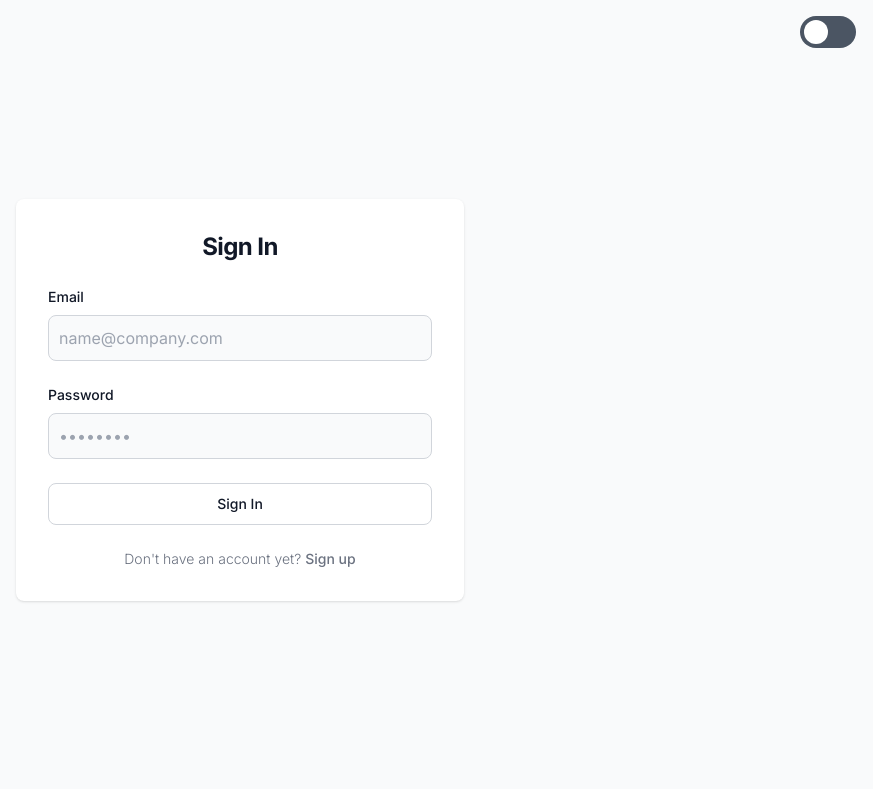
it: Sign In › should display an error when password is empty
This screenshot has width=873, height=789.
Type "test@example.com" into the field named "email" at (240, 338), box [48,315,432,361]
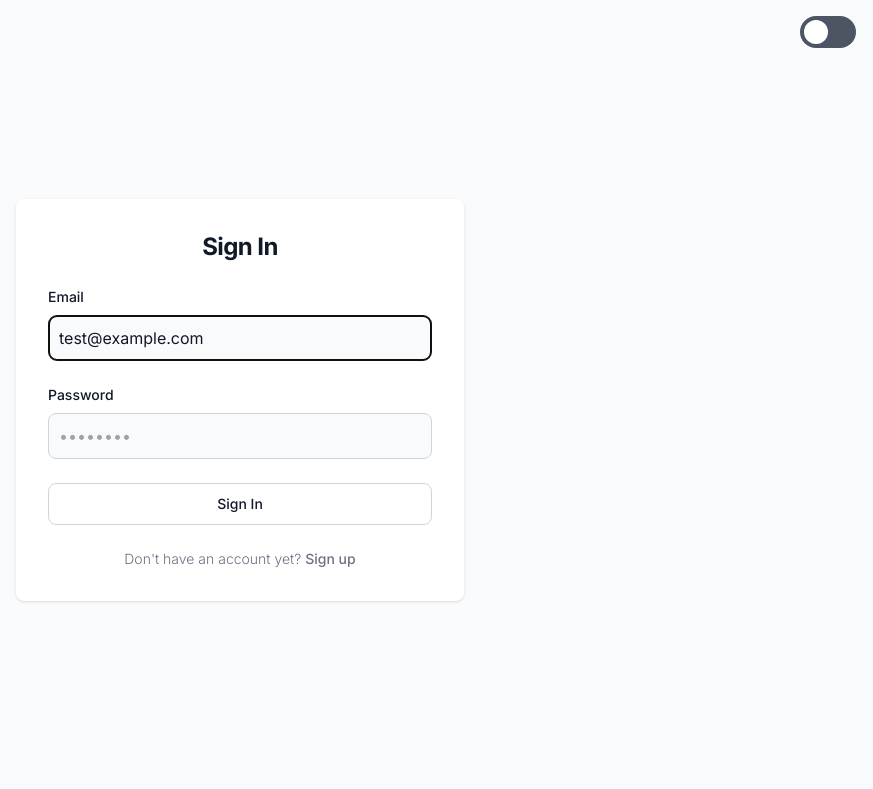
Click the button "Sign In" at (240, 504), box [48,483,432,525]
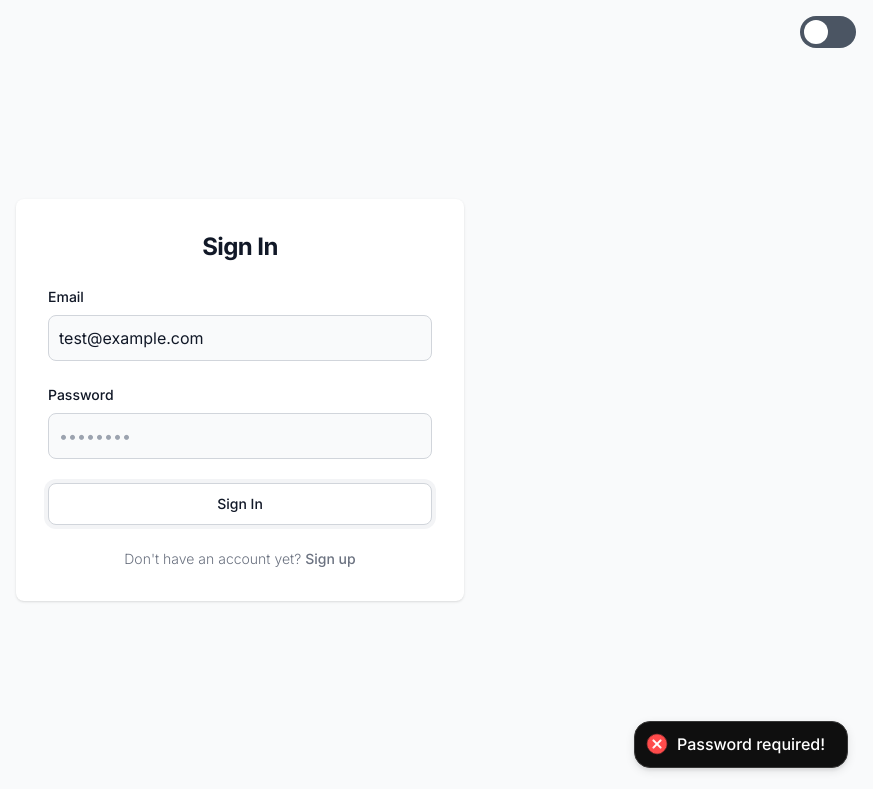
expect the text "Password required!" is shown: met, box [677,734,825,755]
